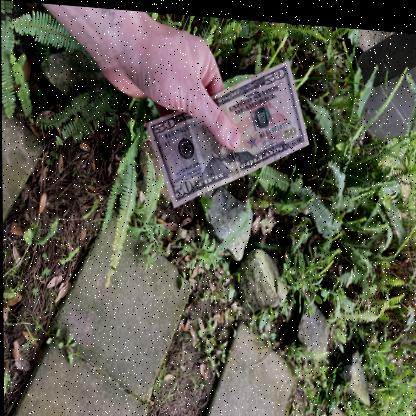fifty-front: (144, 57, 307, 210)
